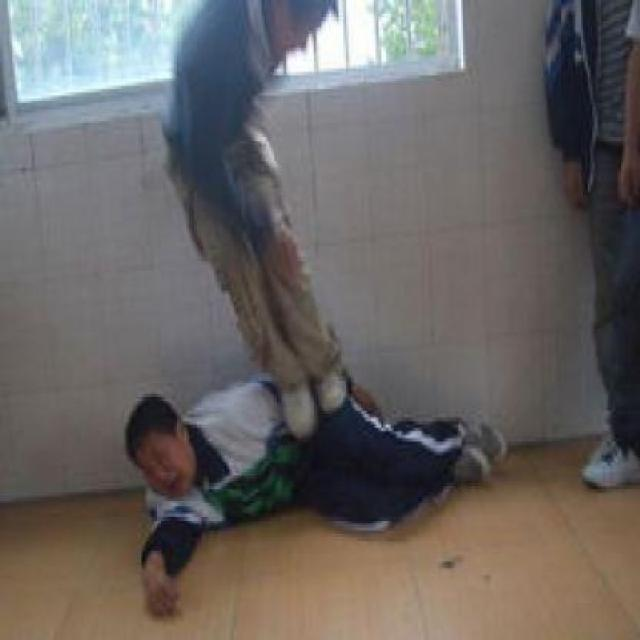fall: (115, 342, 510, 613)
